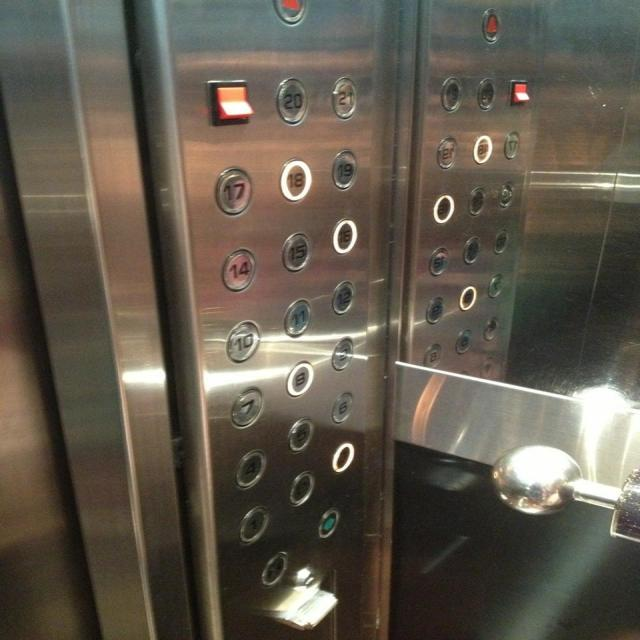1: (238, 504, 274, 546)
10: (222, 318, 265, 364)
11: (280, 296, 314, 340)
12: (327, 278, 356, 316)
14: (217, 245, 259, 291)
15: (278, 229, 312, 272)
16: (328, 214, 362, 258)
17: (209, 164, 254, 218)
18: (277, 156, 315, 206)
19: (328, 150, 362, 193)
20: (272, 77, 309, 127)
21: (326, 74, 361, 118)
4: (232, 446, 266, 492)
5: (284, 417, 317, 455)
6: (327, 388, 356, 428)
7: (228, 384, 266, 432)
8: (282, 358, 316, 400)
9: (327, 334, 355, 373)
alarm: (476, 7, 505, 47)
blur: (286, 469, 319, 507), (258, 551, 290, 587), (328, 441, 354, 474)
open: (315, 506, 342, 542)
switch: (202, 78, 254, 128), (506, 75, 538, 109)
unknown: (431, 135, 463, 173), (434, 75, 465, 113), (470, 73, 501, 111), (459, 233, 486, 266), (470, 132, 496, 166), (500, 129, 526, 163), (430, 192, 456, 226), (462, 184, 488, 218), (494, 178, 521, 210), (425, 245, 452, 277), (480, 312, 507, 344), (489, 226, 515, 258), (423, 294, 449, 326), (455, 282, 481, 314), (485, 271, 511, 303), (420, 340, 446, 370), (450, 325, 476, 355)
